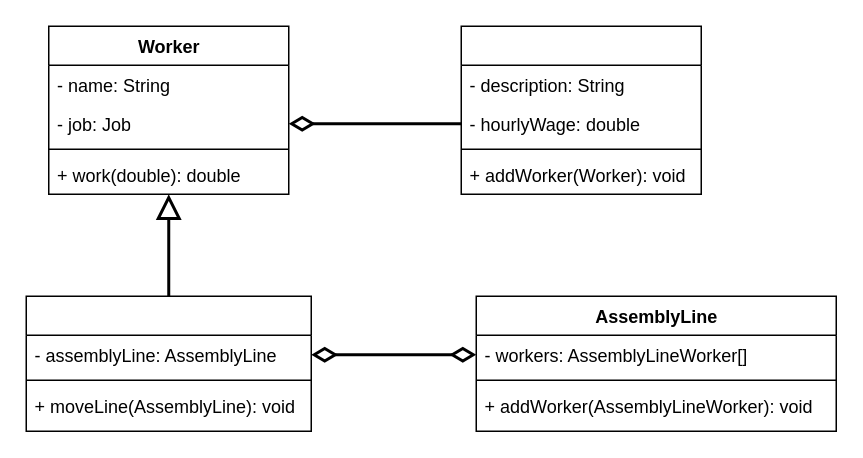
This 863x458 diagram has some shape labels left out. Here are the shapes that lost their labels. From the top down, the box of each, then its label:
(460, 25, 701, 194): Job
(25, 295, 311, 431): AssemblyLineWorker
